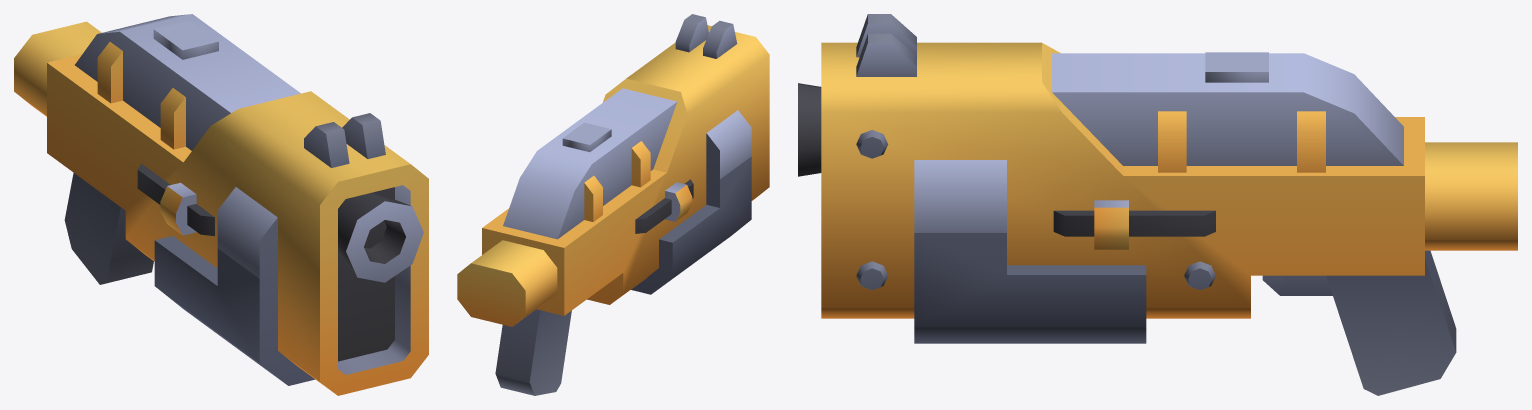
Rendered from weapon_dart_gun.glb.
3 renders of one model, left to right at view 1: azimuth 30°, elevation 25°; view 2: azimuth 150°, elevation 25°; view 3: azimuth 270°, elevation 25°, orthographic. The views are drawn at different scales.
Parts seen in each view (by area): view 1: blaster-m; view 2: blaster-m; view 3: blaster-m.
Boxes of the visible parts, <box> form: blaster-m: <box>14,14,428,395</box>; blaster-m: <box>457,14,769,395</box>; blaster-m: <box>798,14,1517,395</box>.
Size of the model in its own units: 8.51 by 17.41 by 32.
